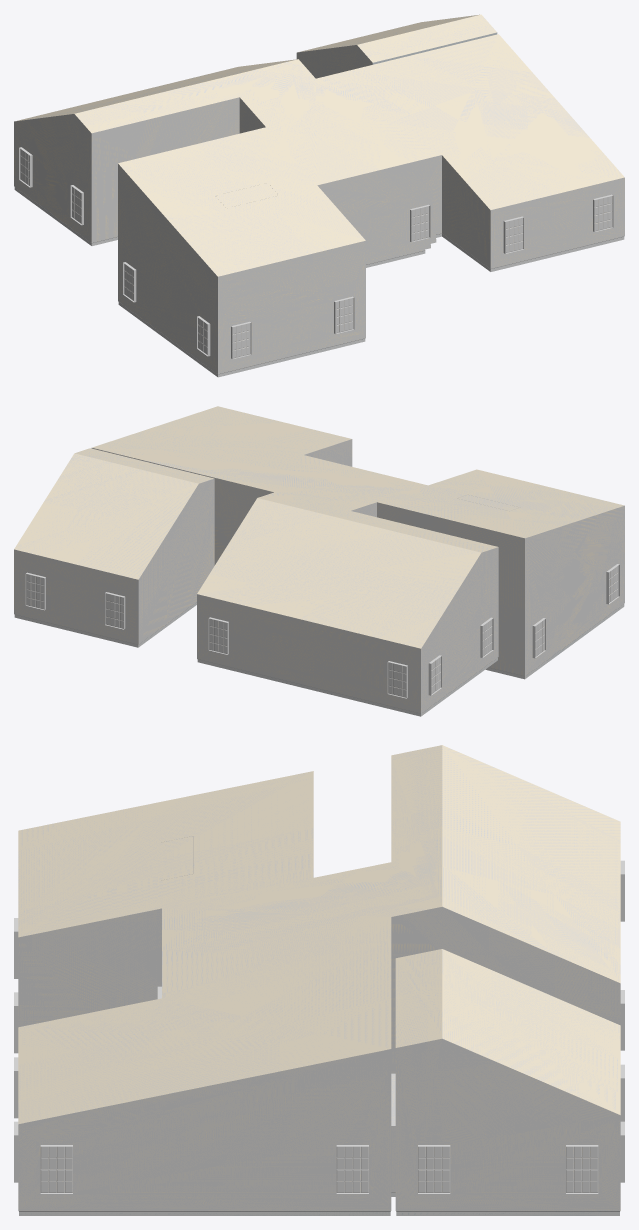
The picture shows the model from 3 angles, top to bottom: view 1: azimuth 30°, elevation 25°; view 2: azimuth 150°, elevation 25°; view 3: azimuth 270°, elevation 25°; orthographic projection. The views are drawn at different scales.
Visible parts, largest first — view 1: group_0.016, group_0.007, group_0.020, group_0.015, group_0.002, group_0.001; view 2: group_0.016, group_0.007, group_0.020, group_0.015, group_0, group_0.001, group_0.002; view 3: group_0.016, group_0.007, group_0.015, group_0.020, group_0.001.
Part boxes in pixels (left/top/right/bottom): group_0.016: left=16, top=34, right=624, bottom=276; group_0.007: left=14, top=97, right=624, bottom=374; group_0.020: left=298, top=14, right=496, bottom=62; group_0.015: left=296, top=45, right=372, bottom=78; group_0.002: left=118, top=302, right=365, bottom=377; group_0.001: left=436, top=233, right=624, bottom=271; group_0.016: left=92, top=406, right=624, bottom=648; group_0.007: left=91, top=439, right=624, bottom=713; group_0.020: left=14, top=448, right=213, bottom=579; group_0.015: left=14, top=478, right=214, bottom=644; group_0: left=197, top=657, right=497, bottom=716; group_0.001: left=14, top=602, right=196, bottom=647; group_0.002: left=485, top=604, right=624, bottom=679; group_0.016: left=18, top=745, right=620, bottom=1124; group_0.007: left=18, top=906, right=620, bottom=1210; group_0.015: left=395, top=1038, right=620, bottom=1210; group_0.020: left=395, top=949, right=620, bottom=1114; group_0.001: left=19, top=1192, right=619, bottom=1215.
Bounding box in the file's own units: 19.07 × 7.03 × 16.57.
